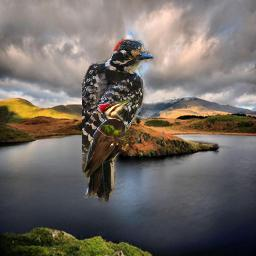Woodpecker: (82, 37, 154, 205), (82, 97, 136, 199)
